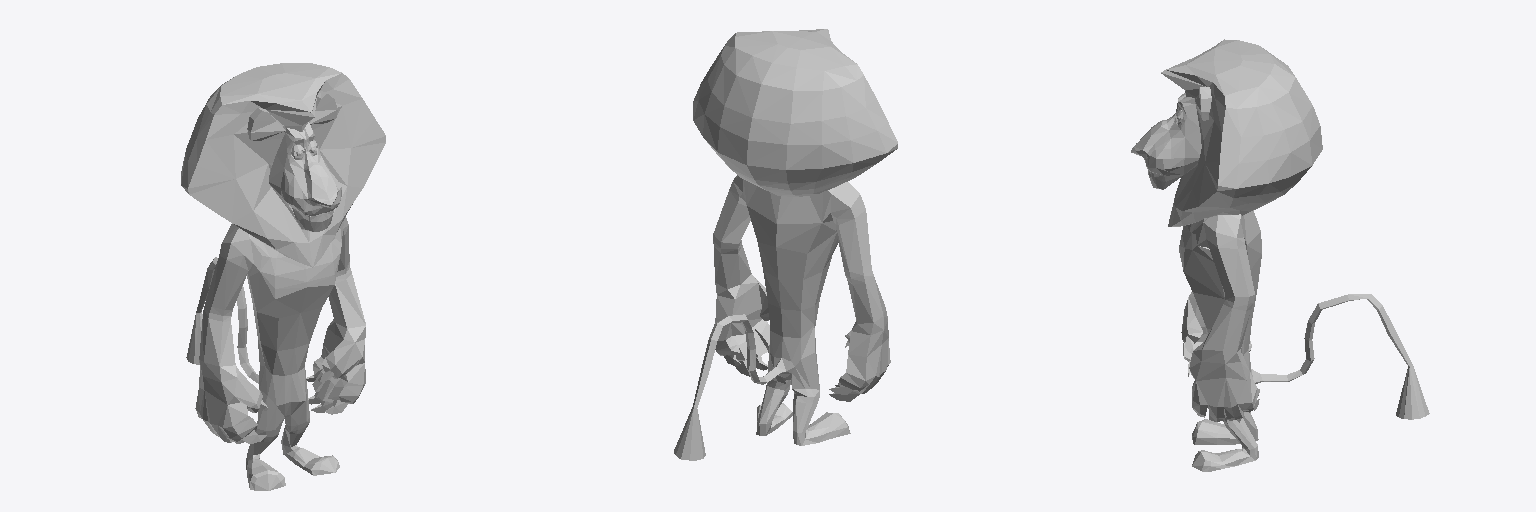
File: Alex_mesh (claws).obj
3 renders of one model, left to right at view 1: azimuth 30°, elevation 25°; view 2: azimuth 150°, elevation 25°; view 3: azimuth 270°, elevation 25°, orthographic.
Visible parts, largest first — view 1: Mesh_0318; view 2: Mesh_0318; view 3: Mesh_0318.
Boxes of the visible parts, x1=… form: Mesh_0318: x1=181, y1=63, x2=385, y2=490; Mesh_0318: x1=674, y1=29, x2=897, y2=460; Mesh_0318: x1=1131, y1=39, x2=1429, y2=471.
Bounding box in the file's own units: 42.78 × 80.24 × 55.79.